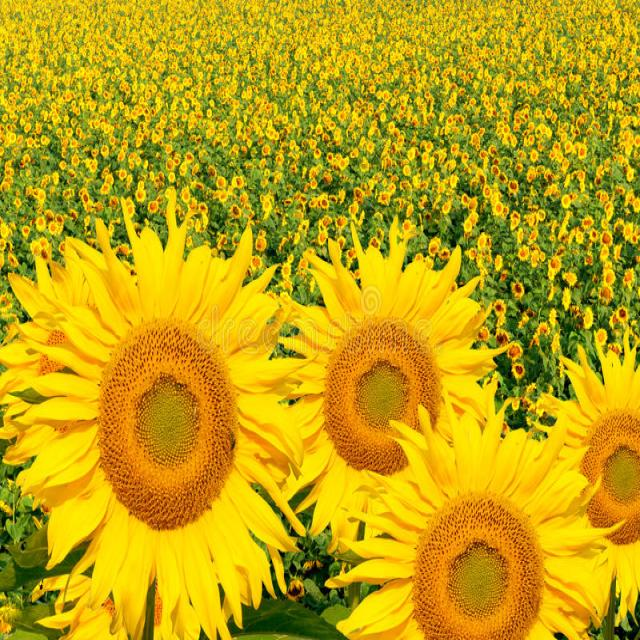sunflower: (12, 205, 314, 634), (271, 243, 507, 572), (349, 375, 591, 640), (532, 337, 640, 640), (511, 361, 527, 381), (510, 279, 525, 299), (616, 303, 630, 324), (583, 306, 594, 332), (229, 202, 243, 219), (600, 230, 613, 248), (8, 250, 18, 270), (494, 252, 504, 272), (148, 199, 160, 215), (318, 228, 328, 246), (48, 220, 58, 236), (402, 164, 412, 177)
